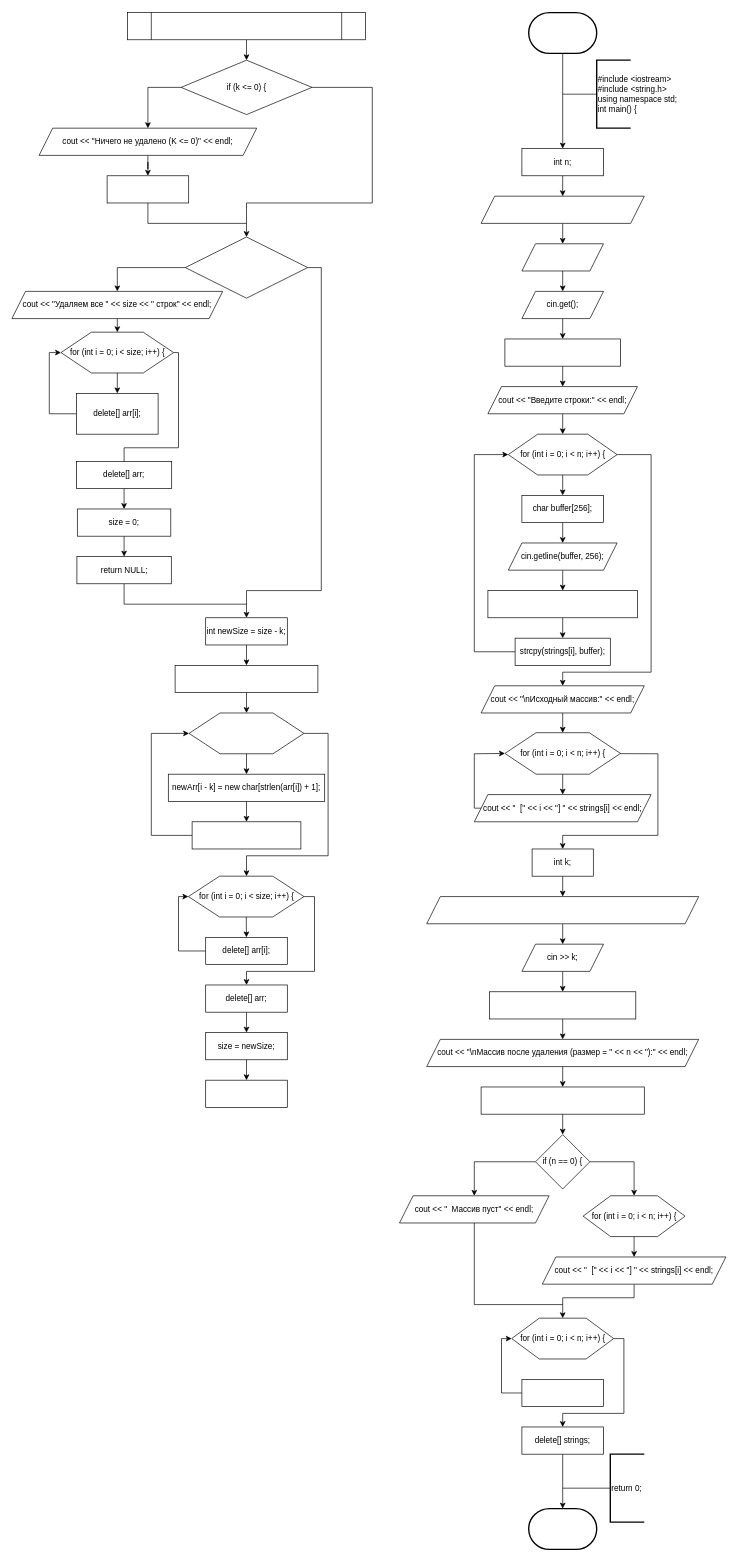
The diagram is 738 pixels wide and 1561 high, and some of its shapes have lost their labels. Here are the shapes that lost their labels. From the top down, the centre of each, then its label:
pixel 246 26: char** deleteFirstRows(char **arr, int &size, int k) {
pixel 562 33: Начало
pixel 147 189: return arr;
pixel 562 209: cout << "Введите количество строк: ";
pixel 246 267: if (k >= size) {
pixel 562 257: cin >> n;
pixel 562 352: char **strings = new char*[n];
pixel 562 604: strings[i] = new char[strlen(buffer) + 1];
pixel 246 679: char **newArr = new char*[newSize];
pixel 246 733: for (int i = k; i < size; i++) {
pixel 246 835: strcpy(newArr[i - k], arr[i]);
pixel 562 910: cout << "\nВведите количество строк K для удаления из начала: ";
pixel 562 1005: strings = deleteFirstRows(strings, n, k);
pixel 246 1093: return newArr;
pixel 562 1100: strings = deleteRows(strings, n, start, k);
pixel 562 1393: delete[] strings[i];
pixel 562 1529: Конец
